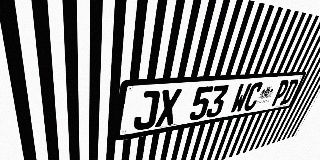3: (205, 85, 229, 118)
5: (188, 86, 214, 121)
C: (242, 82, 264, 112)
D: (279, 79, 300, 105)
J: (132, 90, 161, 131)
P: (270, 80, 291, 107)
W: (229, 83, 252, 114)
X: (155, 88, 182, 127)
